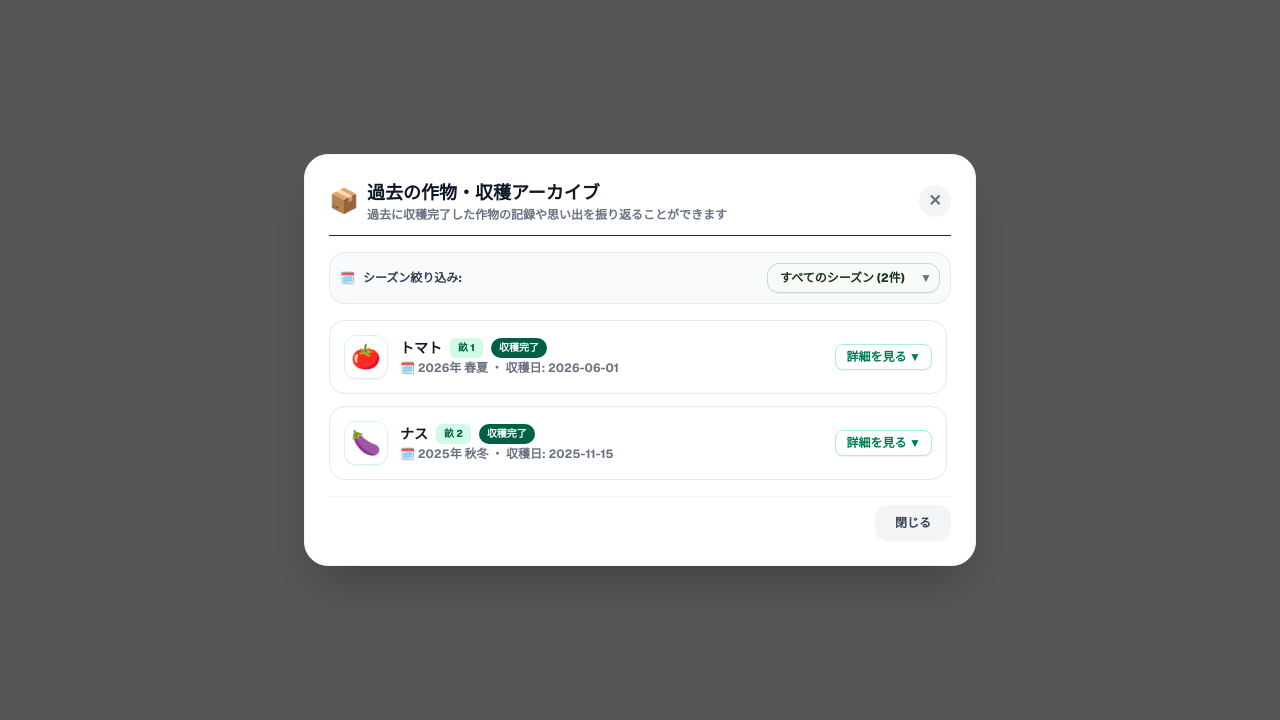
Test: ArchivedCropsModal › expands bed details and displays associated records from pre-grouped map
Click on tomato bed card header to expand
Click the text "トマト" at (421, 348), box [400, 338, 442, 358]
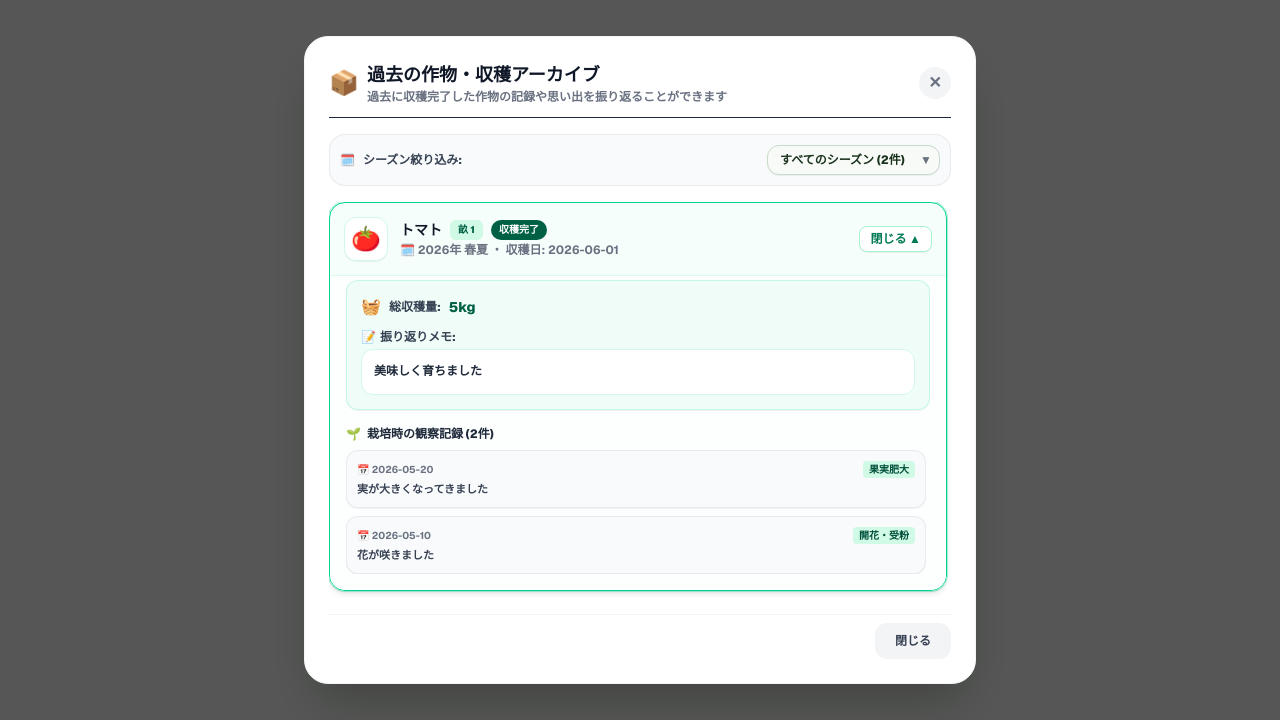
expect the text "美味しく育ちました" is shown: met, box [361, 349, 915, 394]
expect the text "花が咲きました" is shown: met, box [357, 548, 434, 562]
expect the text "実が大きくなってきました" is shown: met, box [357, 482, 488, 496]
